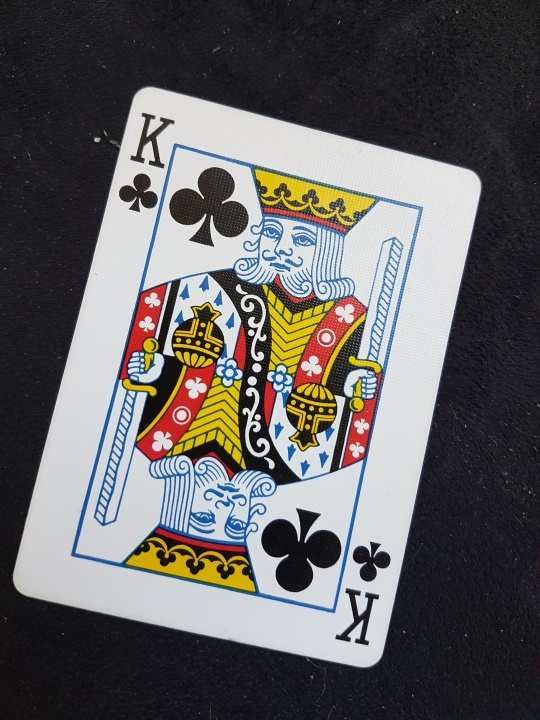king: (11, 80, 488, 665)
